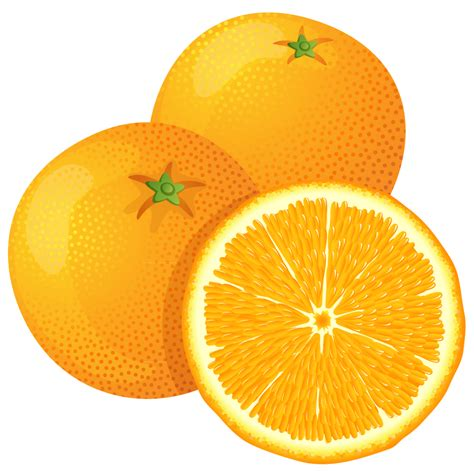orange: (6, 120, 258, 403), (150, 10, 412, 195)
